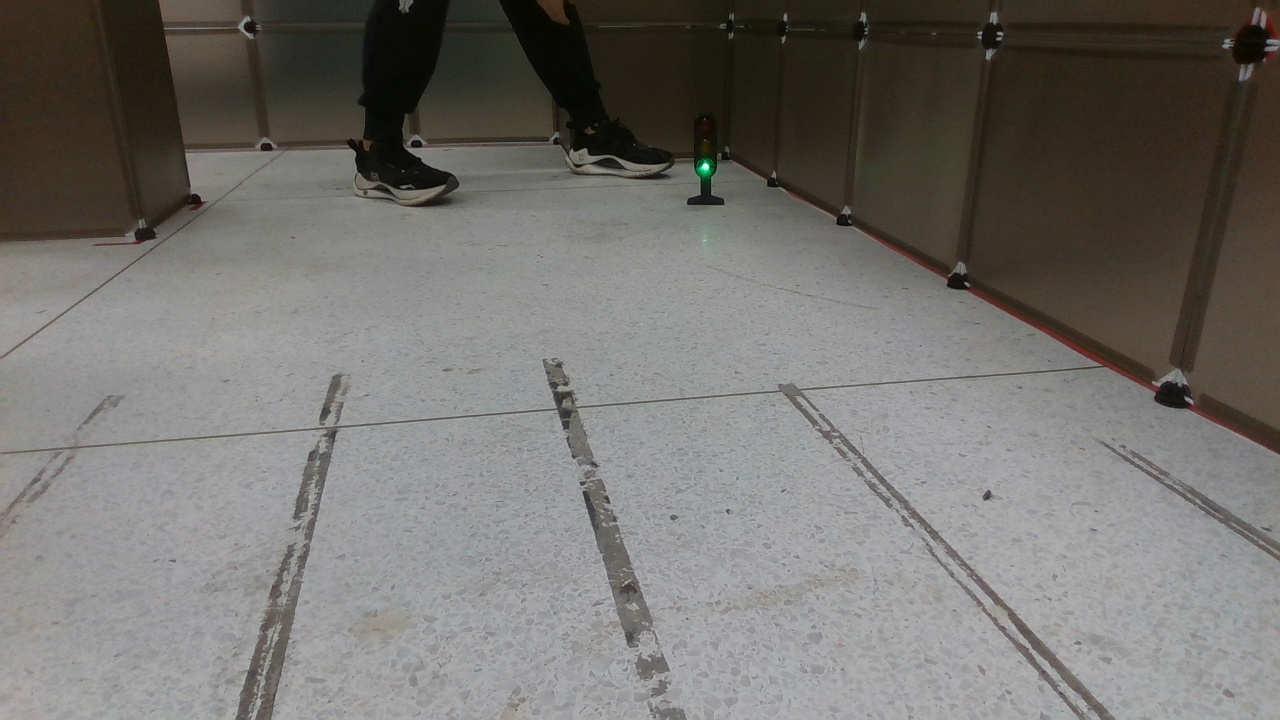Green traffic light: (686, 111, 725, 208)
